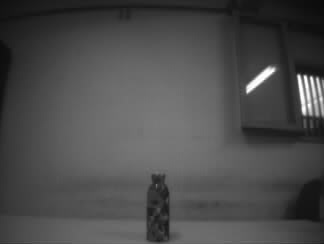Bottle: (145, 171, 169, 243)
